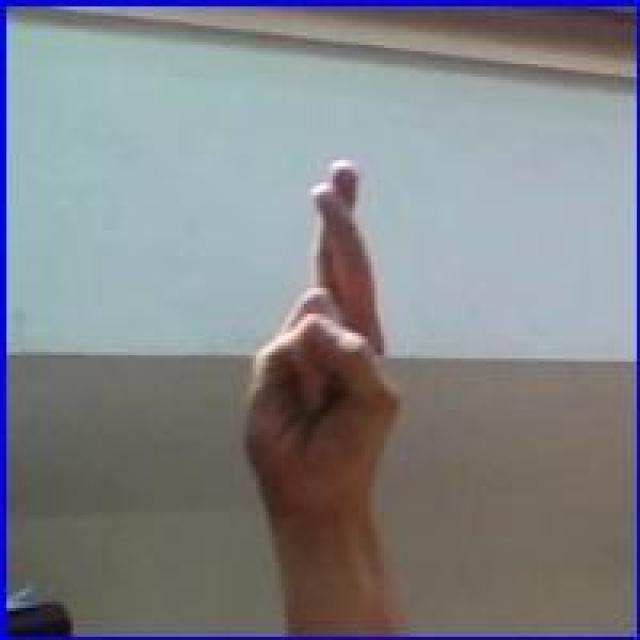R: (237, 153, 419, 534)
